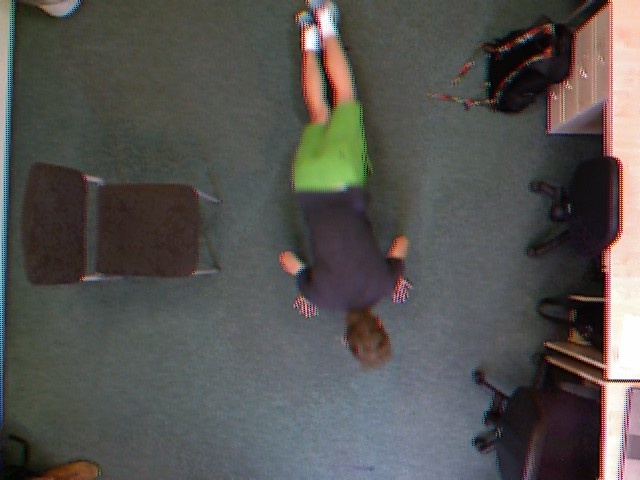fall: (266, 5, 428, 384)
